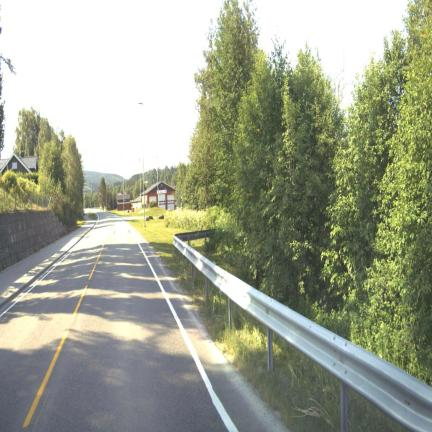Road: (0, 213, 279, 430)
